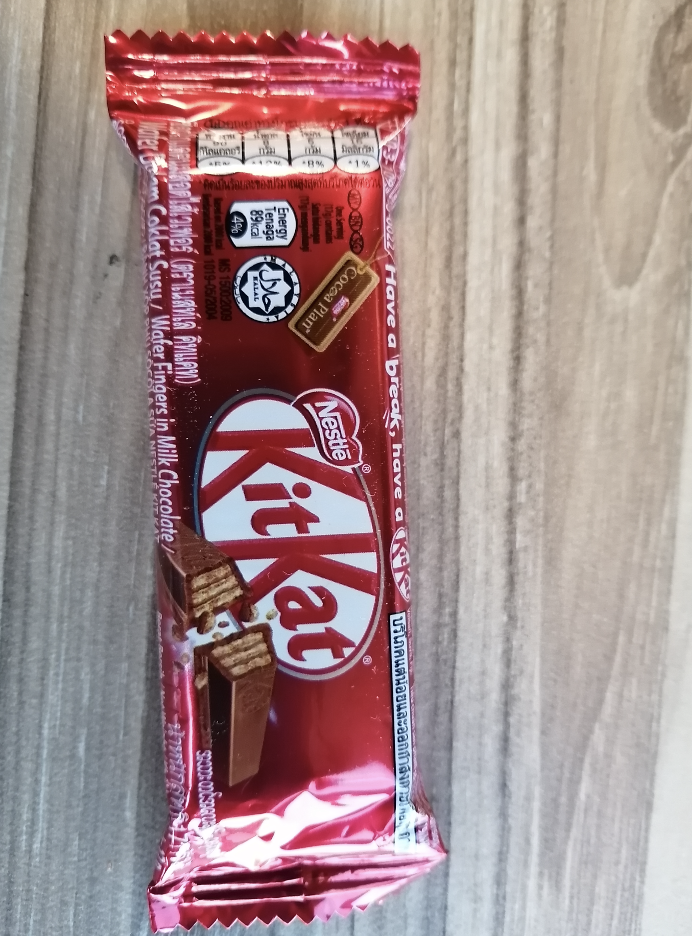Kitkat: (157, 105, 409, 843)
